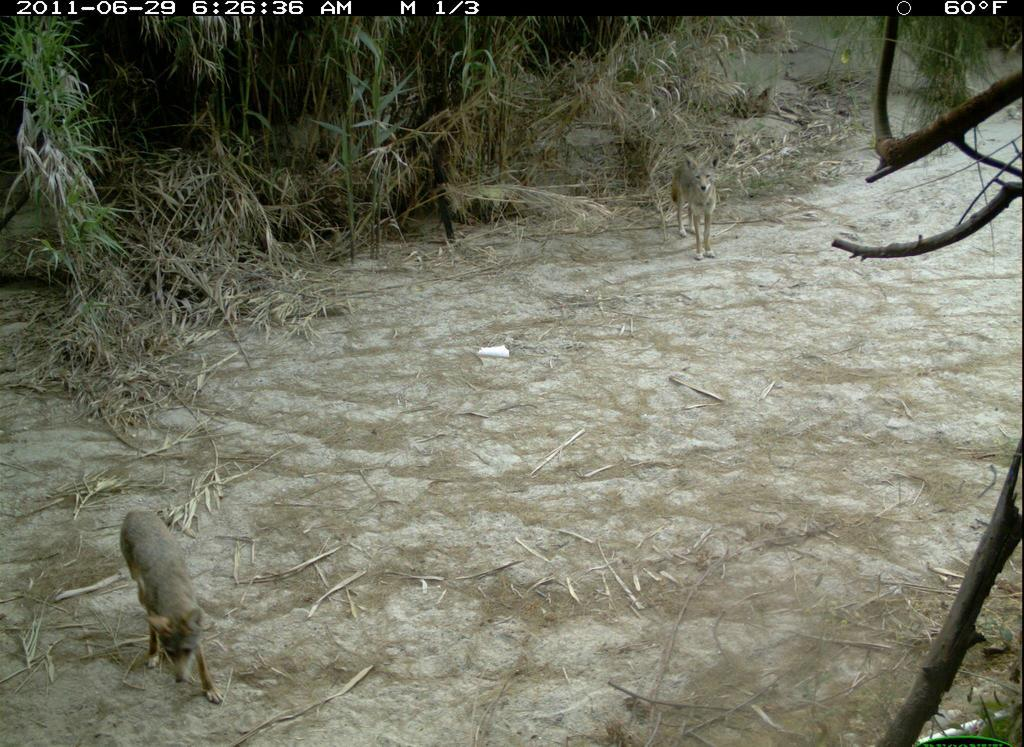coyote: (102, 488, 276, 720), (665, 136, 734, 272)
